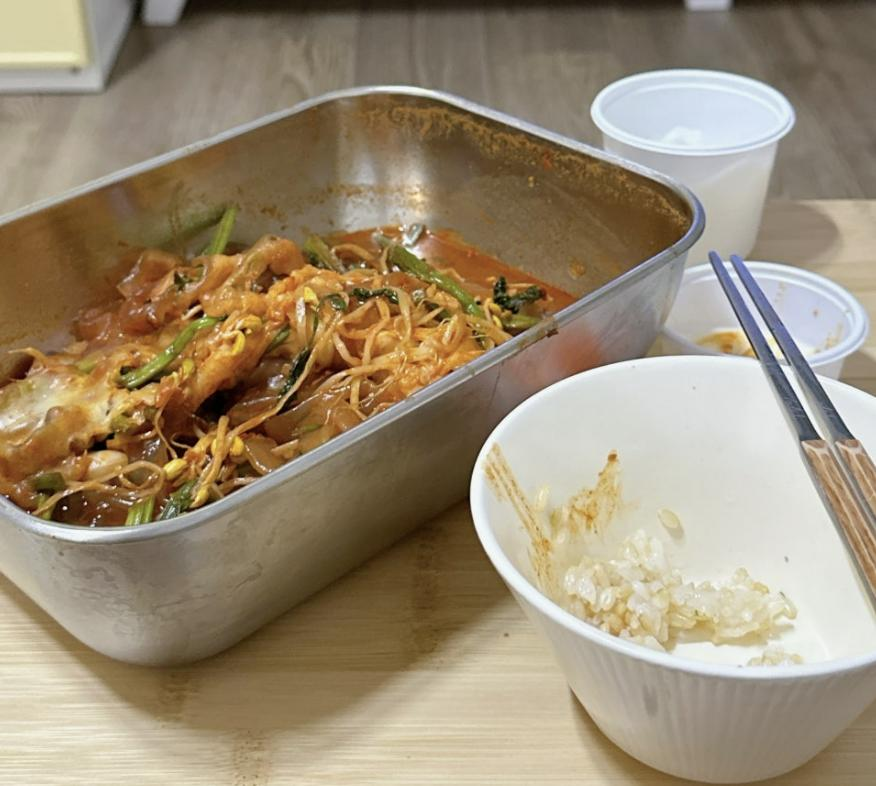Lunch Box: (0, 87, 703, 664), (470, 356, 875, 782), (745, 260, 868, 378)
cup: (591, 69, 794, 263)
